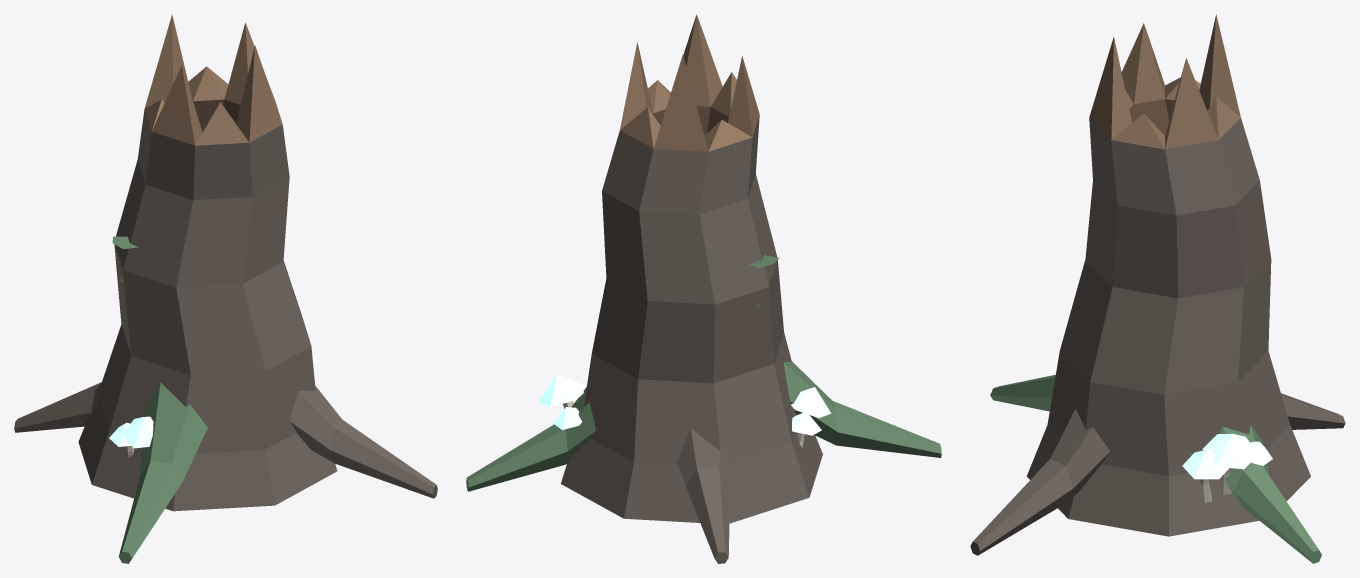
The model's file is outdoor_tree_snag.glb.
The picture shows the model from 3 angles, left to right: view 1: azimuth 30°, elevation 25°; view 2: azimuth 150°, elevation 25°; view 3: azimuth 270°, elevation 25°; orthographic projection. The views are drawn at different scales.
Visible parts, largest first — view 1: Outdoor_Tree_Snag; view 2: Outdoor_Tree_Snag; view 3: Outdoor_Tree_Snag.
Part boxes in pixels (<box>): Outdoor_Tree_Snag: <box>14,14,437,563</box>; Outdoor_Tree_Snag: <box>466,14,941,563</box>; Outdoor_Tree_Snag: <box>970,14,1345,563</box>.
Size of the model in its own units: 4.19 by 5.39 by 3.96.
